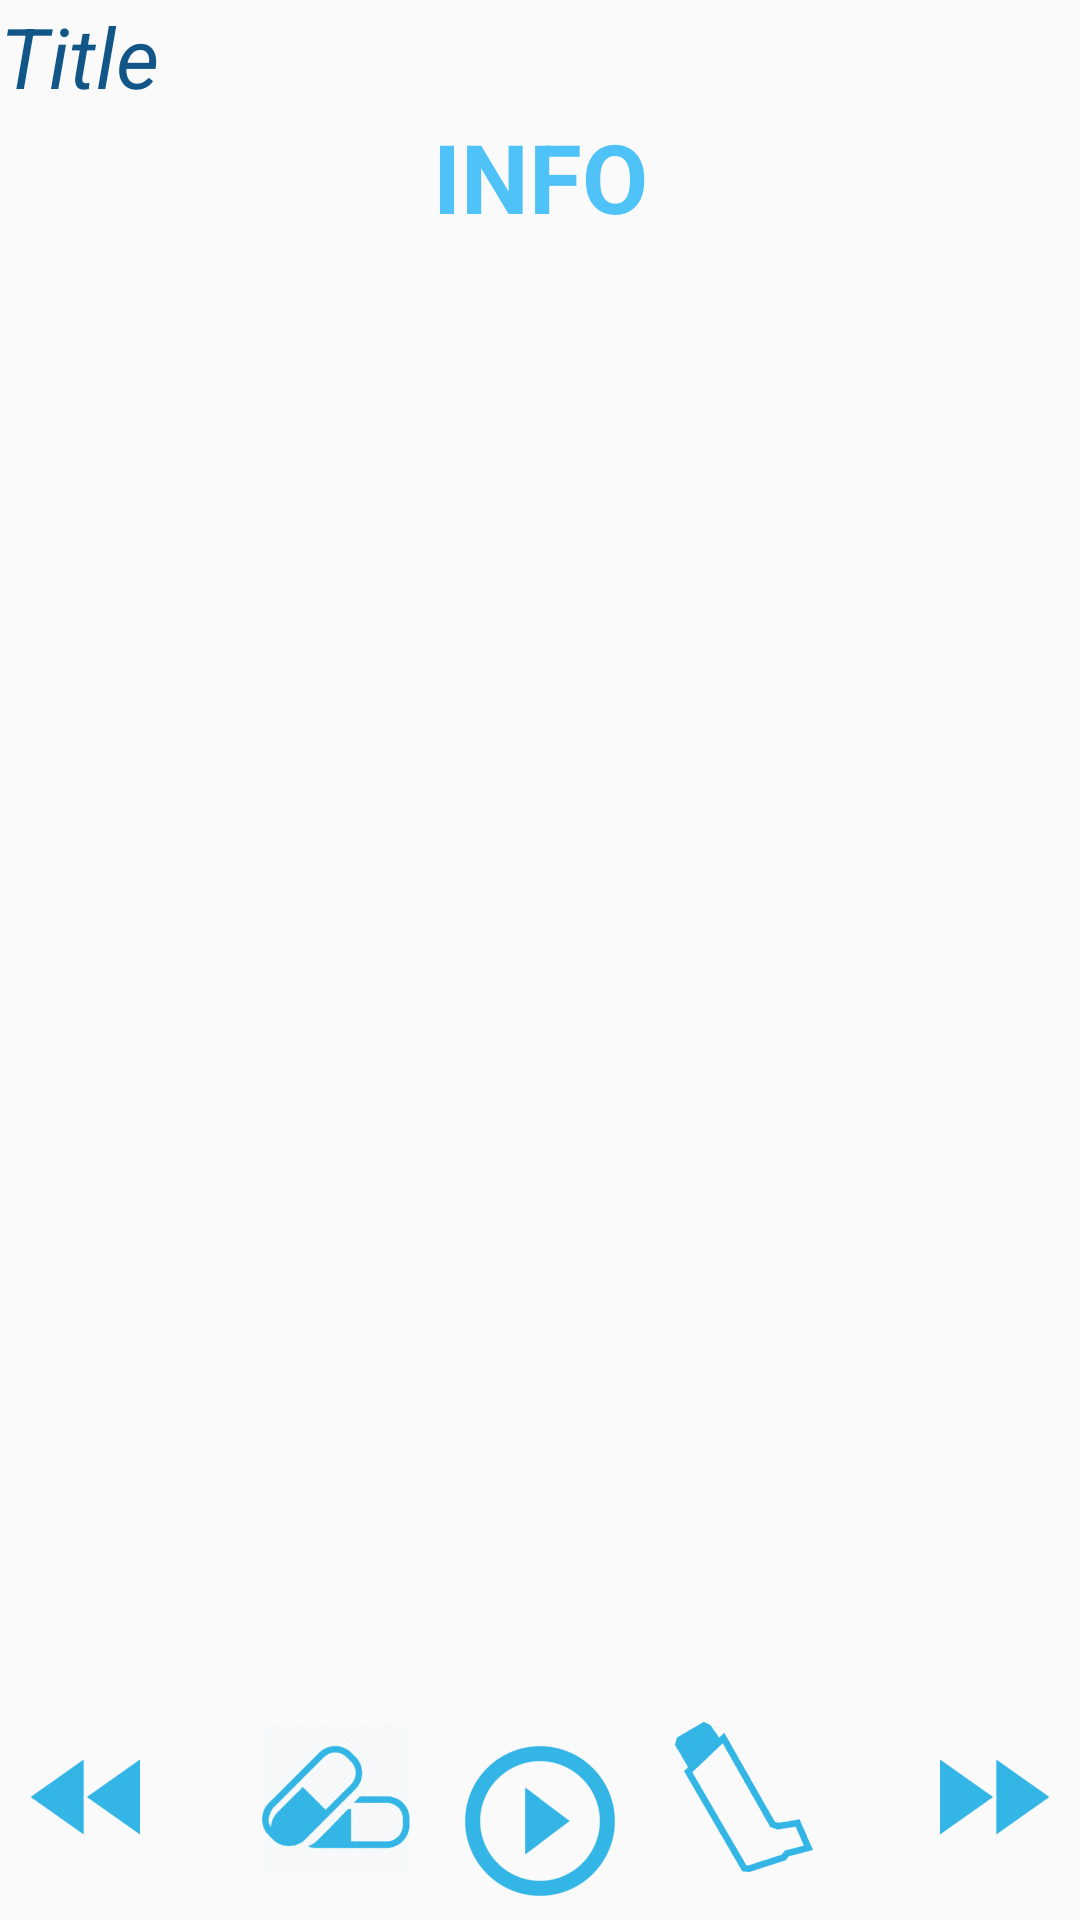

Icons on this 1080 × 1920 Android screen, each with the point to tap as (x,y):
capsule: (336,1797)
inhalador: (744,1797)
Mensaje previo: (85,1797)
Reproducir vídeo: (540,1821)
Siguiente mensaje: (994,1797)
